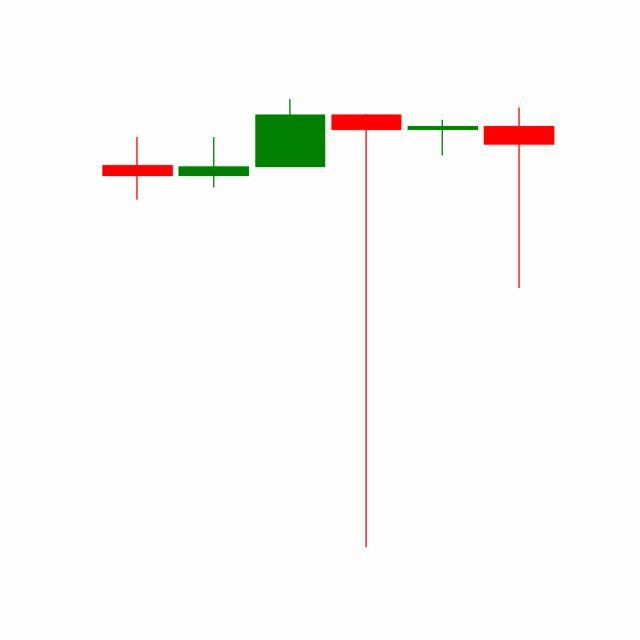Dragonfly Doji: (404, 119, 482, 158)
